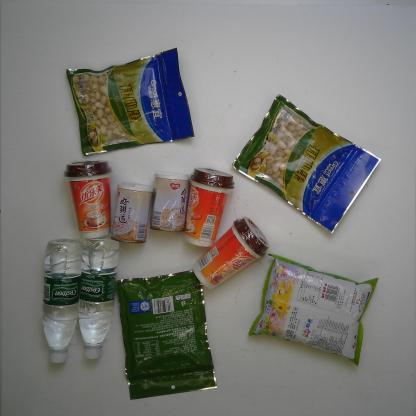Canned Food: (110, 180, 155, 246), (150, 166, 190, 232)
Dried Fruit: (230, 90, 384, 232), (64, 47, 201, 158), (113, 267, 223, 404)
Drink: (35, 238, 85, 364), (74, 232, 121, 365)
Instant Drink: (188, 211, 273, 290), (180, 164, 235, 250), (62, 153, 115, 241)
Puffed Food: (248, 248, 383, 368)
